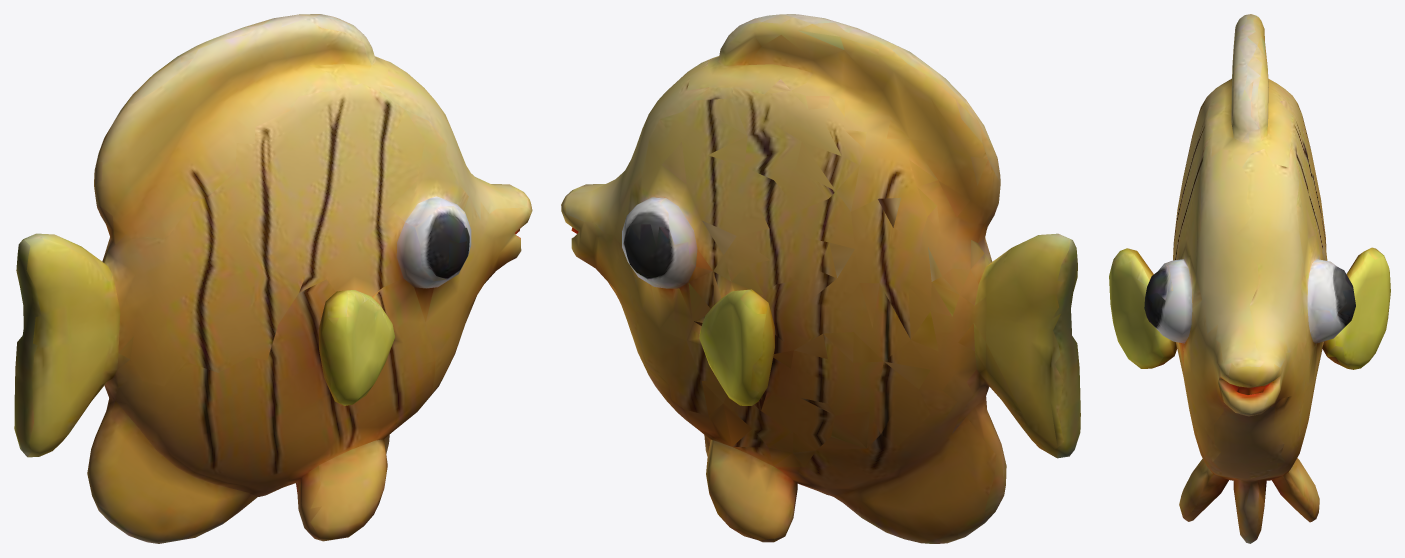
Rendered from butterfly.glb.
The picture shows the model from 3 angles, left to right: view 1: azimuth 30°, elevation 25°; view 2: azimuth 150°, elevation 25°; view 3: azimuth 270°, elevation 25°; orthographic projection. The views are drawn at different scales.
Visible parts, largest first — view 1: low; view 2: low; view 3: low.
Part boxes in pixels (<box>): low: <box>14,14,532,543</box>; low: <box>561,14,1080,543</box>; low: <box>1109,14,1390,543</box>.
Bounding box in the file's own units: 2.06 × 2 × 1.09.
1 material, 1 textured.
